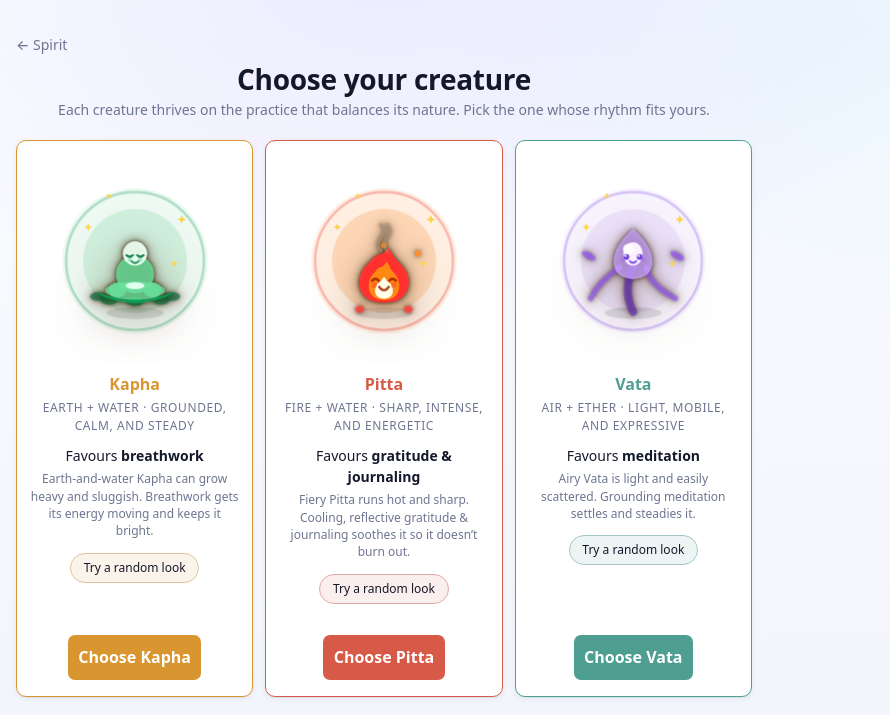
SpiritChoosePage › shows each creature its favoured practice + a "try a random look" button
The width and height of the screenshot is (890, 715).
Expected: the button "Choose Kapha" is shown, [68,635,201,680]
Expected: the text "Favours breathwork" is shown 3 times, [66,444,204,466]; [316,446,452,486]; [567,444,700,466]
Rolling one swaps it to a re-roll + a Clear (and applies a full random look to that card).
Click the button "Try a random look" below "Earth + Water" at (135, 568), box [70,553,200,583]
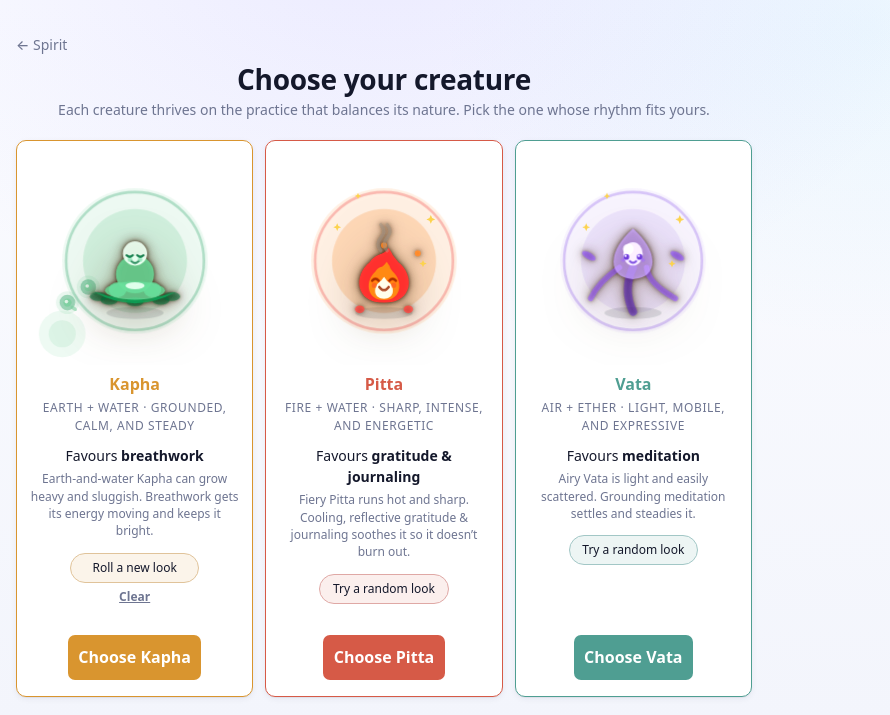
Expected: the button "Roll a new look" is shown, [70,553,200,583]
Expected: the button "Clear" is shown, [113,585,157,610]
